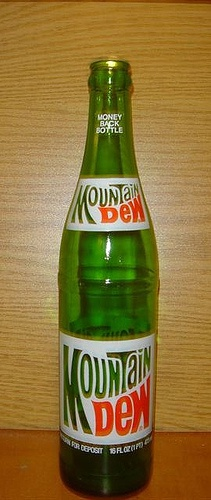emptybottle: (57, 62, 157, 500)
